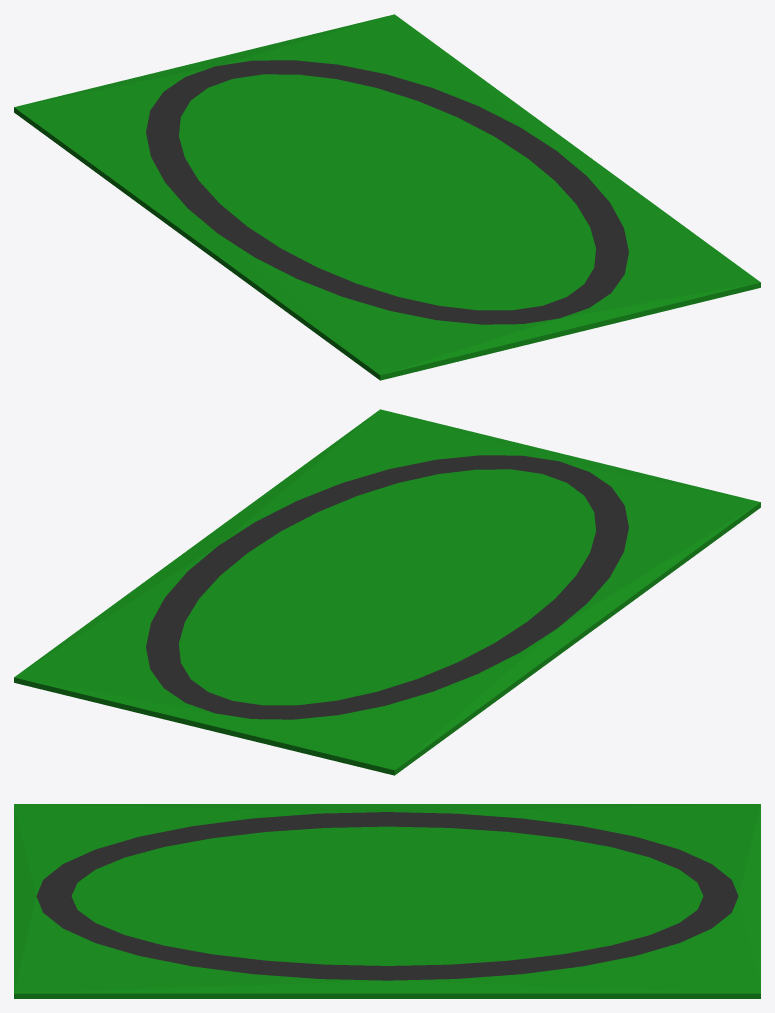
The model's file is track.glb.
3 renders of one model, top to bottom at view 1: azimuth 30°, elevation 25°; view 2: azimuth 150°, elevation 25°; view 3: azimuth 270°, elevation 25°, orthographic.
Parts seen in each view (by area): view 1: Cube; view 2: Cube; view 3: Cube.
Boxes of the visible parts, left/top/right/bottom form: Cube: left=14, top=14, right=760, bottom=380; Cube: left=14, top=409, right=760, bottom=775; Cube: left=14, top=804, right=760, bottom=998.
Size of the model in its own units: 75 by 1.46 by 125.
